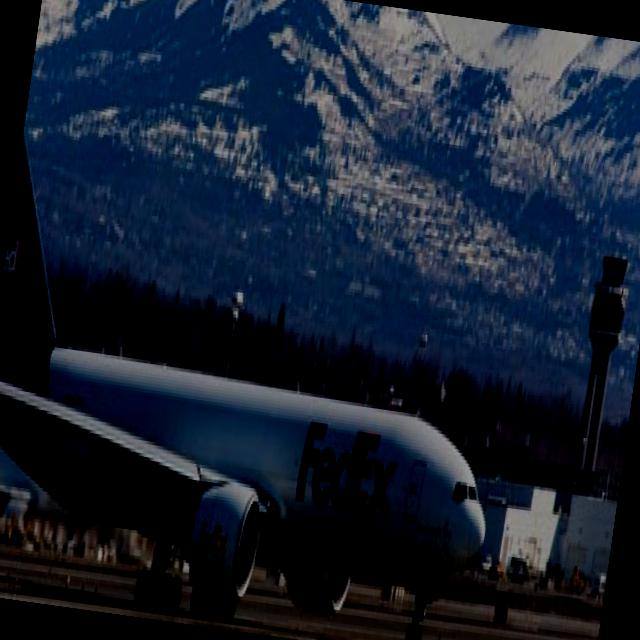Vehicle: (503, 558, 532, 588), (485, 550, 506, 584), (592, 569, 608, 602), (570, 564, 587, 595)
